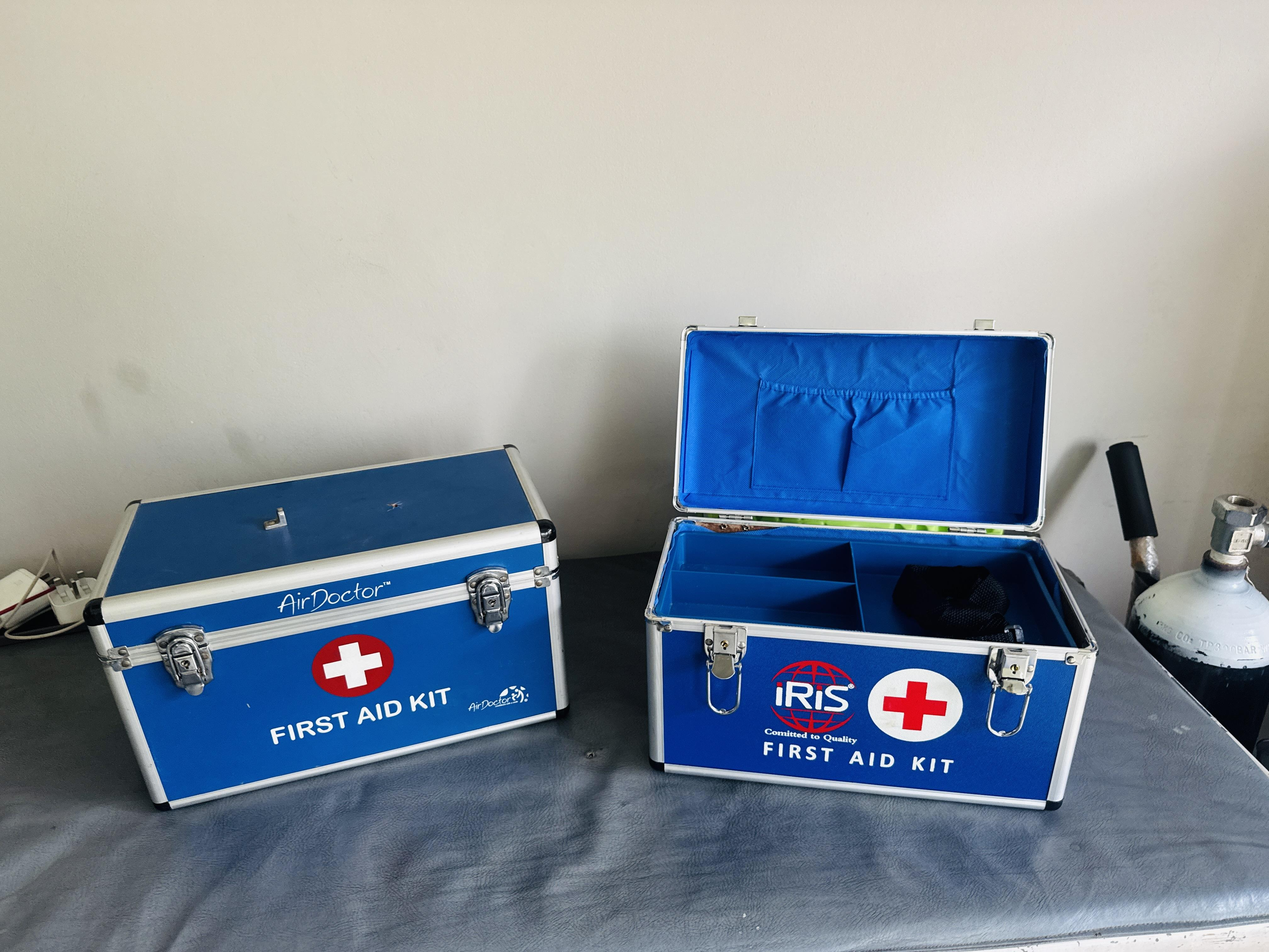FirstAidBox: (642, 288, 1108, 829), (77, 425, 591, 824)
